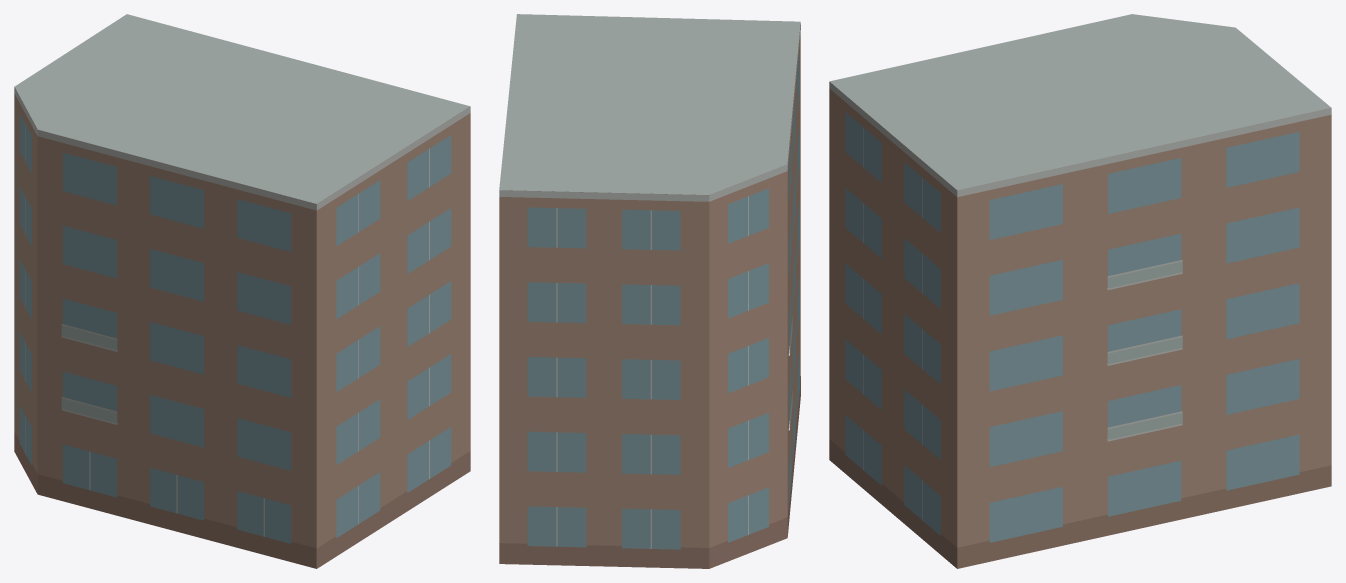
The model's file is survey-upis-32834810.glb.
3 renders of one model, left to right at view 1: azimuth 30°, elevation 25°; view 2: azimuth 150°, elevation 25°; view 3: azimuth 270°, elevation 25°, orthographic. The views are drawn at different scales.
Visible parts, largest first — view 1: survey-upis-32834810.tmp; view 2: survey-upis-32834810.tmp; view 3: survey-upis-32834810.tmp.
Part boxes in pixels (x1,y1,x2,y2): survey-upis-32834810.tmp: [14, 14, 470, 568]; survey-upis-32834810.tmp: [499, 14, 800, 568]; survey-upis-32834810.tmp: [829, 14, 1331, 568].
Bounding box in the file's own units: 13.5 × 13.5 × 16.25.
